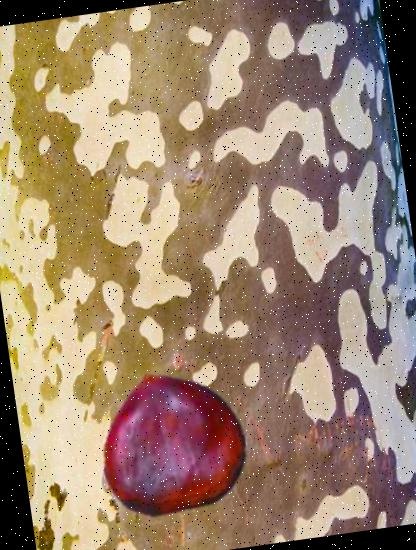Chestnut: (88, 358, 256, 525)
